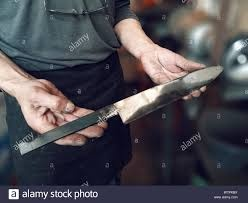knife: (17, 64, 225, 156)
